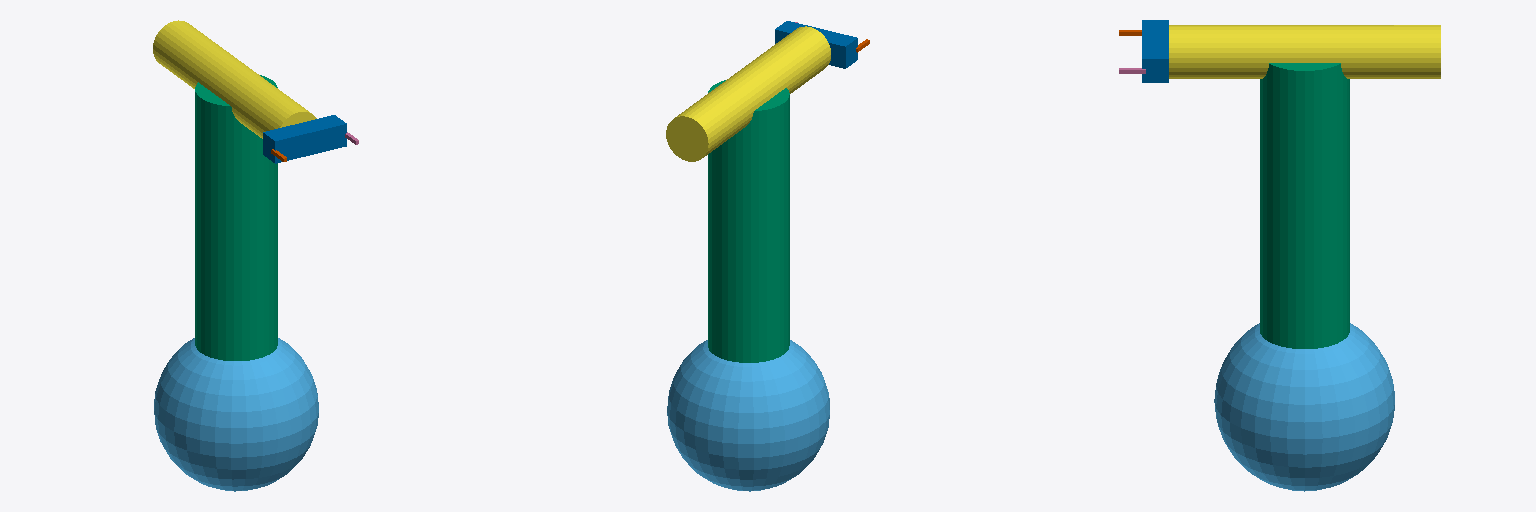
The robot description file, URDF, robot "test_basic":
<?xml version="1.0" encoding="UTF-8"?>
<robot name="test_basic">

  <link name="root_link"/>

  <joint name="root_to_base" type="fixed">
    <parent link="root_link"/>
    <child link="base_link"/>
  </joint>

  <link name="base_link">
    <visual>
      <geometry>
        <sphere radius="0.2"/>
      </geometry>
    </visual>
    <collision>
      <geometry>
        <sphere radius="0.2"/>
      </geometry>
    </collision>
    <inertial>
      <mass value="10"/>
      <inertia ixx="1.0" ixy="0.0" ixz="0.0" iyy="1.0" iyz="0.0" izz="1.0"/>
    </inertial>
  </link>

  <joint name="base_joint" type="continuous">
    <parent link="base_link"/>
    <child link="link_1"/>
    <axis xyz="0 0 1"/>
    <origin xyz="0 0 0.45"/>
  </joint>

  <link name="link_1">
    <visual>
      <geometry>
        <cylinder length="0.8" radius=".1"/>
      </geometry>
    </visual>
    <collision>
      <geometry>
        <cylinder length="0.8" radius=".1"/>
      </geometry>
    </collision>
    <inertial>
      <mass value="10"/>
      <inertia ixx="1.0" ixy="0.0" ixz="0.0" iyy="1.0" iyz="0.0" izz="1.0"/>
    </inertial>
  </link>


  <joint name="elbow_joint" type="revolute">
    <parent link="link_1"/>
    <child link="link_2"/>
    <limit effort="1000.0" lower="-0.6" upper="0.6" velocity="0.5"/>
    <origin xyz="0 0 0.4" rpy="1.571 0 0"/>
    <axis xyz="1 0 0"/>
  </joint>

  <link name="link_2">
    <visual>
      <geometry>
        <cylinder length="0.6" radius=".06"/>
      </geometry>
    </visual>
    <collision>
      <geometry>
        <cylinder length="0.6" radius=".06"/>
      </geometry>
    </collision>
    <inertial>
      <mass value="10"/>
      <inertia ixx="1.0" ixy="0.0" ixz="0.0" iyy="1.0" iyz="0.0" izz="1.0"/>
    </inertial>
  </link>

  <joint name="wrist_joint" type="continuous">
    <parent link="link_2"/>
    <child link="palm_link"/>
    <origin xyz="0 0 0.33"/>
    <axis xyz="0 0 1"/>
  </joint>

  <link name="palm_link">
    <visual>
      <geometry>
        <box size="0.2 .06 .06"/>
      </geometry>
    </visual>
    <collision>
      <geometry>
        <box size="0.2 .06 .06"/>
      </geometry>
    </collision>
    <inertial>
      <mass value="10"/>
      <inertia ixx="1.0" ixy="0.0" ixz="0.0" iyy="1.0" iyz="0.0" izz="1.0"/>
    </inertial>
  </link>

  <joint name="finger_1_joint" type="prismatic">
    <parent link="palm_link"/>
    <child link="finger_link_1"/>
    <limit effort="1000.0" lower="-0.02" upper="0.08" velocity="0.5"/>
    <origin rpy="0 1.571 0" xyz="-0.10 0 0.05"/>
    <axis xyz="0 0 1"/>
  </joint>

  <link name="finger_link_1">
    <visual>
      <geometry>
        <box size="0.06 .01 .01"/>
      </geometry>
    </visual>
    <collision>
      <geometry>
        <box size="0.06 .1 .1"/>
      </geometry>
    </collision>
    <inertial>
      <mass value="3"/>
      <inertia ixx="1.0" ixy="0.0" ixz="0.0" iyy="1.0" iyz="0.0" izz="1.0"/>
    </inertial>
  </link>

  <joint name="finger_2_joint" type="prismatic">
    <parent link="palm_link"/>
    <child link="finger_link_2"/>
    <limit effort="1000.0" lower="-0.08" upper="0.02" velocity="0.5"/>
    <origin rpy="0 1.571 0" xyz="0.10 0 0.05"/>
    <axis xyz="0 0 1"/>
  </joint>

  <link name="finger_link_2">
    <visual>
      <geometry>
        <box size="0.06 .01 .01"/>
      </geometry>
    </visual>
    <collision>
      <geometry>
        <box size="0.06 .1 .1"/>
      </geometry>
    </collision>
    <inertial>
      <mass value="3"/>
      <inertia ixx="2.0" ixy="0.0" ixz="0.0" iyy="3.0" iyz="0.0" izz="4.0"/>
    </inertial>
  </link>
</robot>

--- Facts derived from the render (not from the file) ---
The picture shows the robot from 3 angles, left to right: view 1: azimuth 30°, elevation 25°; view 2: azimuth 150°, elevation 25°; view 3: azimuth 270°, elevation 25°; orthographic projection.
Robot: test_basic — 7 links, 6 joints (1 revolute, 2 continuous, 2 prismatic, 1 fixed); root link root_link; default pose: all joints at 0.
Links seen in each view (by area): view 1: link_1, base_link, link_2, palm_link; view 2: link_1, base_link, link_2, palm_link; view 3: link_1, base_link, link_2, palm_link.
Boxes of the visible links, left/top/right/bottom form: link_1: left=195, top=75, right=277, bottom=360; base_link: left=154, top=338, right=318, bottom=491; link_2: left=153, top=20, right=316, bottom=138; palm_link: left=263, top=115, right=346, bottom=163; link_1: left=708, top=80, right=789, bottom=362; base_link: left=667, top=340, right=829, bottom=491; link_2: left=666, top=26, right=830, bottom=161; palm_link: left=775, top=21, right=857, bottom=68; link_1: left=1260, top=63, right=1349, bottom=348; base_link: left=1214, top=323, right=1394, bottom=491; link_2: left=1169, top=25, right=1440, bottom=78; palm_link: left=1142, top=20, right=1168, bottom=82.
Bounding box of the posed robot: 0.4 × 0.71 × 1.11 m (x, y, z).
Geometry: primitives only (box / cylinder / sphere), no mesh files.